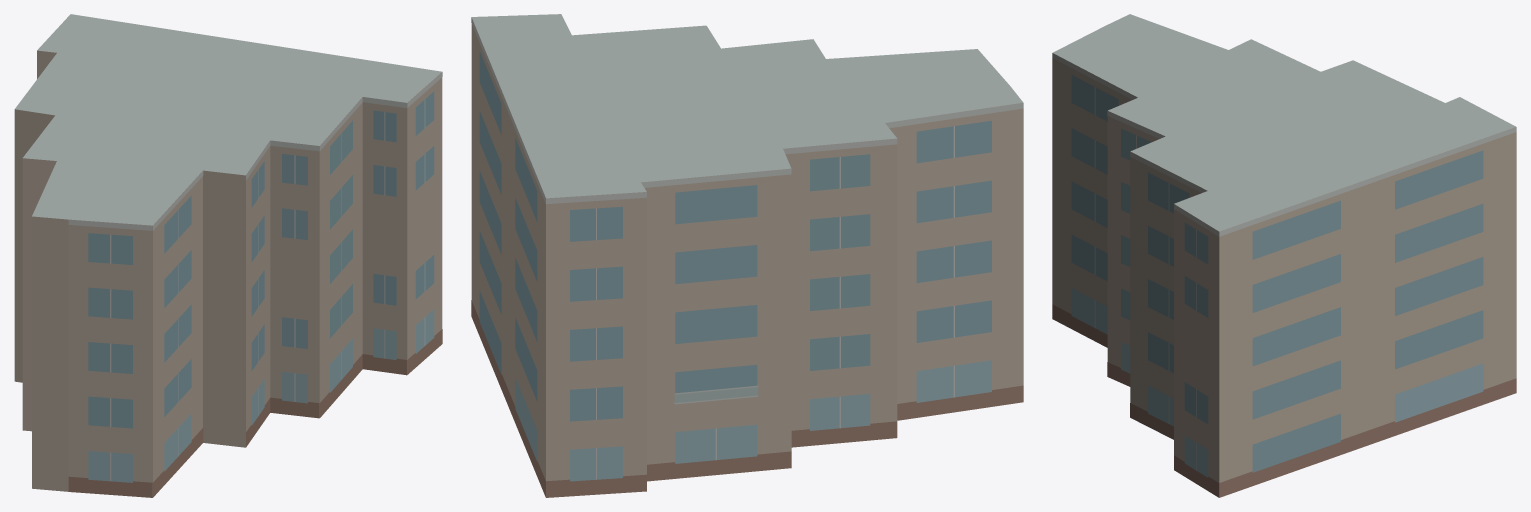
The model's file is survey-upis-32822907.glb.
The picture shows the model from 3 angles, left to right: view 1: azimuth 30°, elevation 25°; view 2: azimuth 150°, elevation 25°; view 3: azimuth 270°, elevation 25°; orthographic projection. The views are drawn at different scales.
Parts seen in each view (by area): view 1: survey-upis-32822907.tmp; view 2: survey-upis-32822907.tmp; view 3: survey-upis-32822907.tmp.
Part boxes in pixels (box(x1,y1,x2,y2)): survey-upis-32822907.tmp: box(14, 14, 442, 497); survey-upis-32822907.tmp: box(471, 14, 1023, 497); survey-upis-32822907.tmp: box(1052, 14, 1516, 497).
Size of the model in its own units: 22.01 by 12.55 by 19.83.
